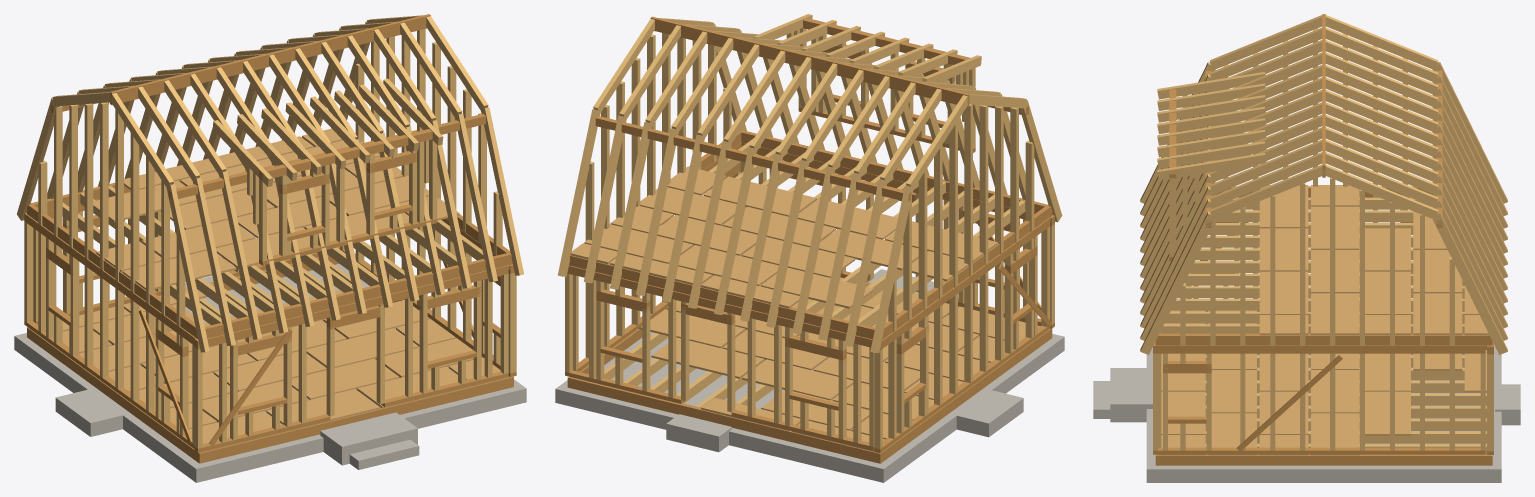
File: base-05-framing.glb
3 renders of one model, left to right at view 1: azimuth 30°, elevation 25°; view 2: azimuth 150°, elevation 25°; view 3: azimuth 270°, elevation 25°, orthographic. The views are drawn at different scales.
Parts seen in each view (by area): view 1: base_house_5_framing; view 2: base_house_5_framing; view 3: base_house_5_framing.
Boxes of the visible parts, <box> form: base_house_5_framing: <box>14,14,526,482</box>; base_house_5_framing: <box>555,14,1064,482</box>; base_house_5_framing: <box>1093,14,1520,482</box>.
Size of the model in its own units: 9.55 by 8.12 by 10.
